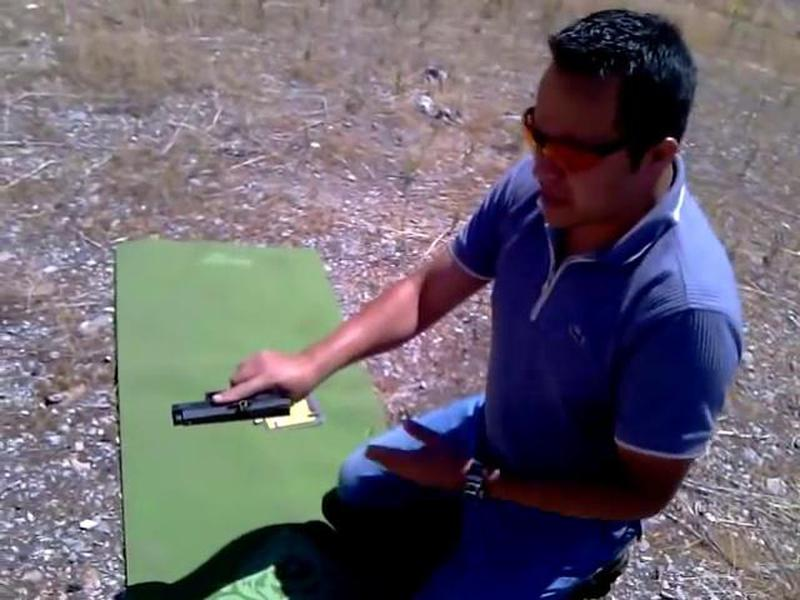Pistola: (157, 354, 299, 444)
